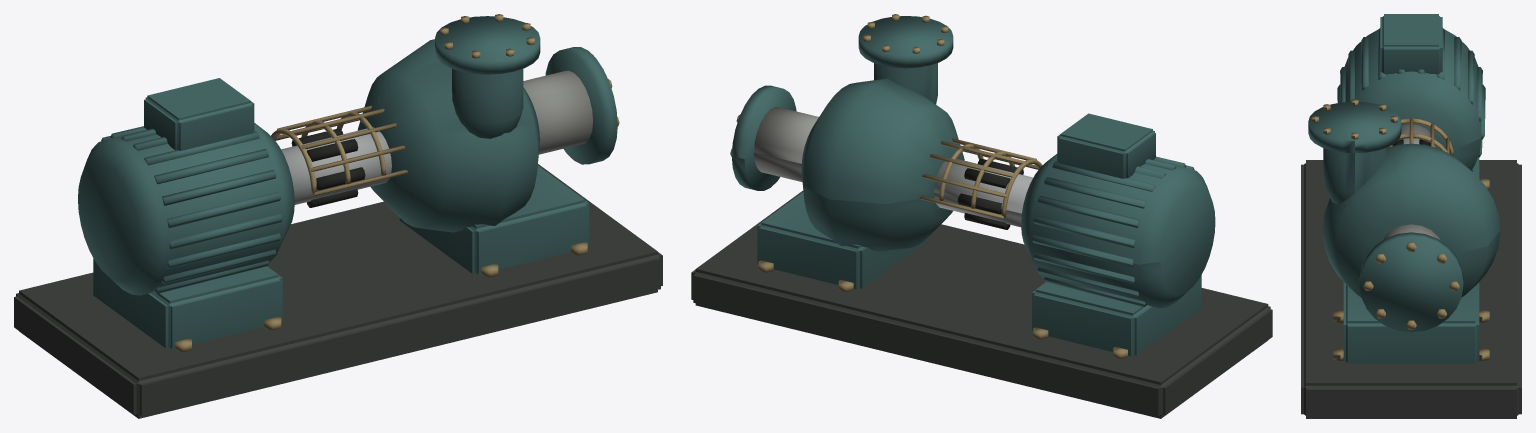
Rendered from municipal-pump.glb.
The picture shows the model from 3 angles, left to right: view 1: azimuth 30°, elevation 25°; view 2: azimuth 150°, elevation 25°; view 3: azimuth 270°, elevation 25°; orthographic projection. The views are drawn at different scales.
Visible parts, largest first — view 1: Frame, Coupling; view 2: Frame, Coupling; view 3: Frame, Coupling.
Boxes of the visible parts, bbox=[...] form: Frame: bbox=[14, 14, 662, 418]; Coupling: bbox=[281, 127, 391, 207]; Frame: bbox=[691, 14, 1272, 418]; Coupling: bbox=[934, 158, 1033, 229]; Frame: bbox=[1301, 14, 1521, 418]; Coupling: bbox=[1392, 124, 1436, 147].
Bounding box in the file's own units: 1.9 × 0.935 × 0.78.
